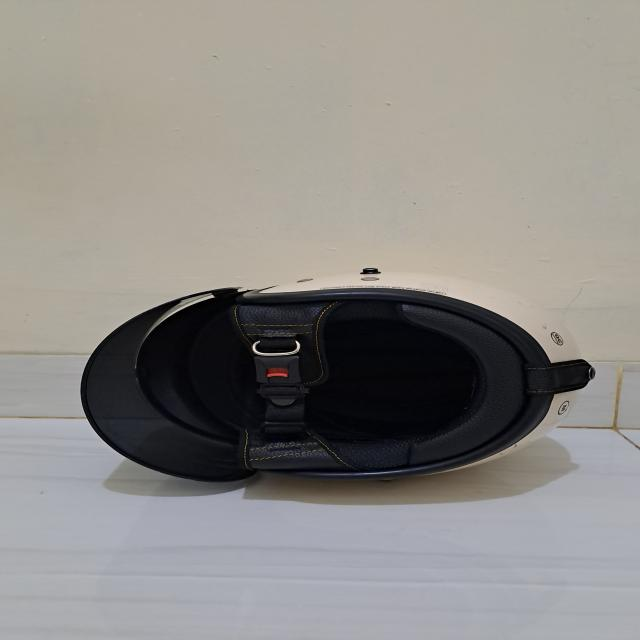Helm: (58, 260, 605, 493)
